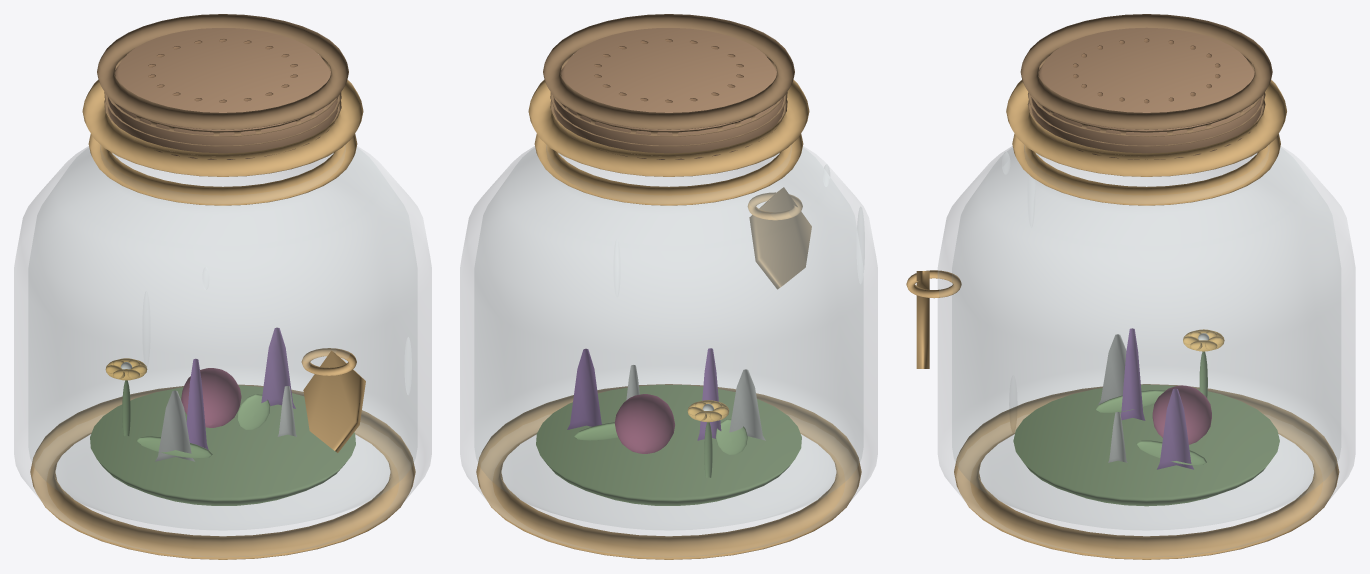
File: jar_04_glass.glb
3 renders of one model, left to right at view 1: azimuth 30°, elevation 25°; view 2: azimuth 150°, elevation 25°; view 3: azimuth 270°, elevation 25°, orthographic.
Visible parts, largest first — view 1: Outer glass wall, Inner glass wall, Natural cork stopper, Soft moss and earth bed, Foot brass ring, Stopper top binding, Stopper retaining ring, Neck collar, Hand-cut quartz point (×4), Unlabeled crystal charm, Blue blown-glass orb, Cork grain (×2) (+2 smaller); view 2: Outer glass wall, Inner glass wall, Natural cork stopper, Soft moss and earth bed, Foot brass ring, Stopper top binding, Stopper retaining ring, Neck collar, Hand-cut quartz point (×3), Unlabeled crystal charm, Blue blown-glass orb, Cork grain (×2) (+2 smaller); view 3: Outer glass wall, Inner glass wall, Soft moss and earth bed, Natural cork stopper, Foot brass ring, Stopper top binding, Stopper retaining ring, Neck collar, Hand-cut quartz point (×4), Blue blown-glass orb, Unlabeled crystal charm, Pressed botanical leaf (×2) (+2 smaller).
Boxes of the visible parts, x1,y1,x2,y2 form: Outer glass wall: (14, 145, 431, 557); Inner glass wall: (29, 148, 416, 529); Natural cork stopper: (108, 28, 337, 159); Soft moss and earth bed: (90, 385, 355, 505); Foot brass ring: (30, 384, 415, 559); Stopper top binding: (97, 14, 348, 129); Stopper retaining ring: (82, 80, 363, 176); Neck collar: (88, 134, 357, 205); Hand-cut quartz point (×4): (155, 327, 296, 461); Unlabeled crystal charm: (303, 350, 365, 452); Blue blown-glass orb: (181, 368, 241, 427); Cork grain (×2): (104, 55, 341, 146); Outer glass wall: (460, 145, 877, 557); Inner glass wall: (475, 148, 862, 529); Natural cork stopper: (554, 28, 783, 159); Soft moss and earth bed: (536, 384, 801, 505); Foot brass ring: (476, 384, 861, 559); Stopper top binding: (543, 14, 794, 129); Stopper retaining ring: (528, 80, 809, 176); Neck collar: (534, 134, 803, 205); Hand-cut quartz point (×3): (567, 348, 765, 440); Unlabeled crystal charm: (749, 187, 811, 289); Blue blown-glass orb: (614, 394, 674, 453); Cork grain (×2): (550, 55, 787, 146); Outer glass wall: (938, 145, 1355, 557); Inner glass wall: (952, 148, 1340, 529); Soft moss and earth bed: (1013, 384, 1279, 506); Natural cork stopper: (1031, 27, 1261, 159); Foot brass ring: (954, 384, 1339, 559); Stopper top binding: (1020, 14, 1272, 129); Stopper retaining ring: (1006, 80, 1286, 176); Neck collar: (1012, 134, 1280, 205); Hand-cut quartz point (×4): (1098, 328, 1193, 469); Blue blown-glass orb: (1152, 385, 1211, 444); Unlabeled crystal charm: (916, 271, 929, 368); Pressed botanical leaf (×2): (1095, 390, 1206, 465).
Size of the model in its own units: 1.17 by 1.32 by 1.26.
